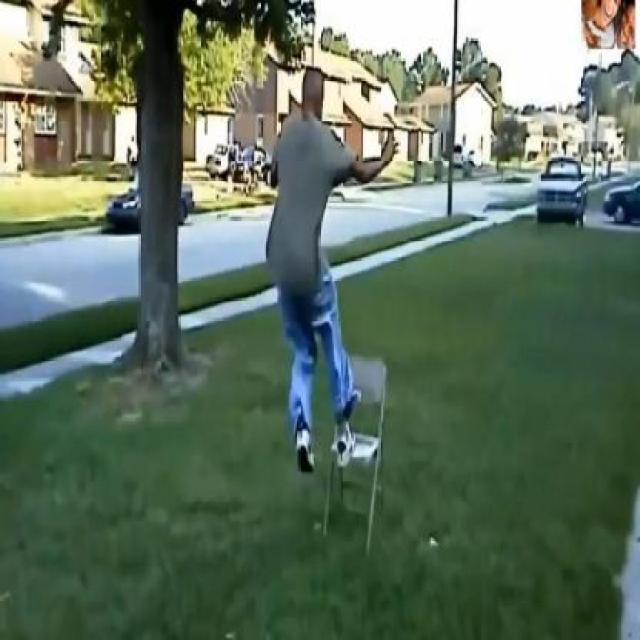fall: (265, 66, 393, 482)
